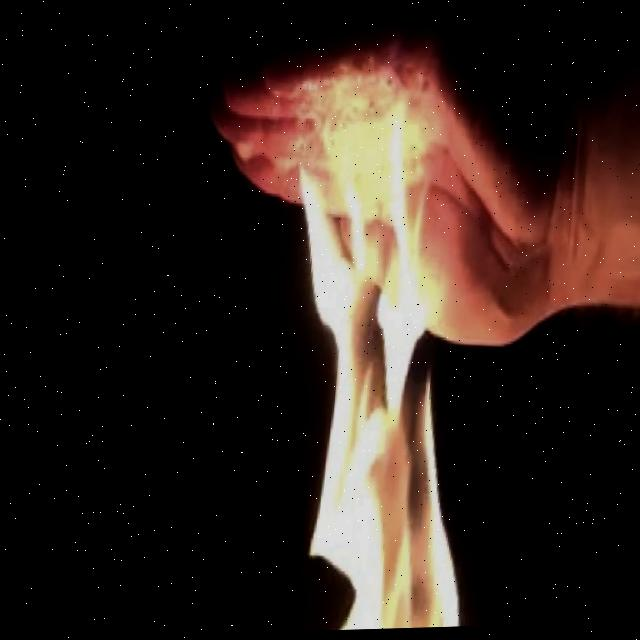Fire: (251, 81, 511, 634)
